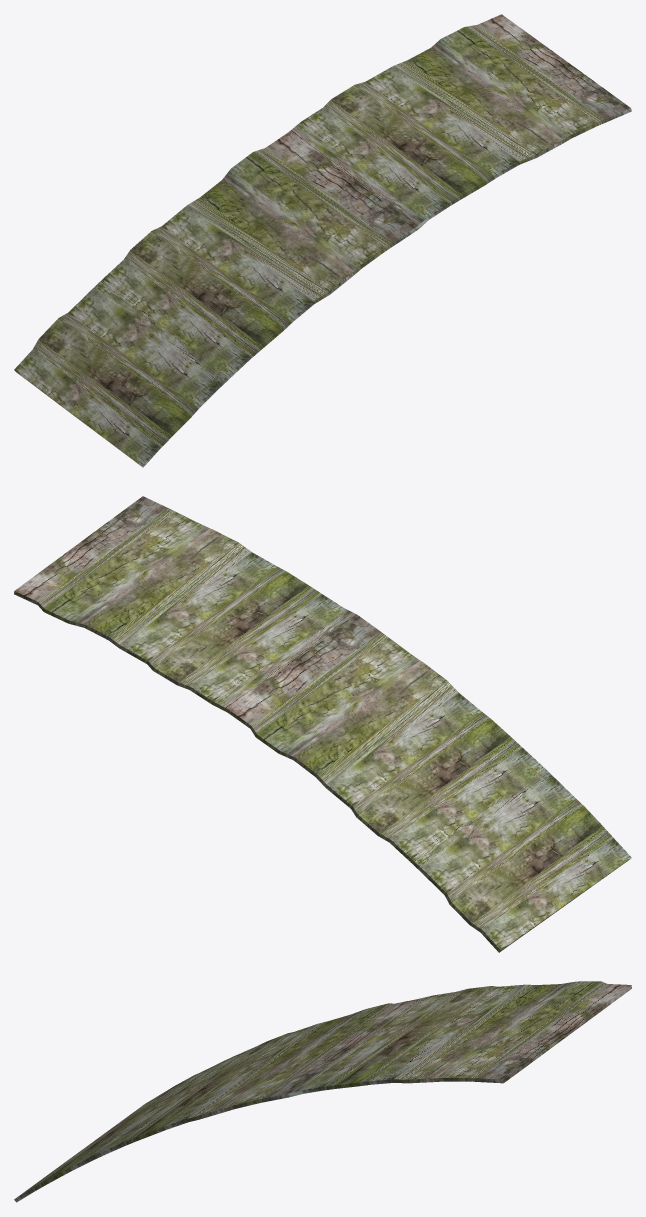
Rendered from ramp-004.fbx.
3 renders of one model, top to bottom at view 1: azimuth 30°, elevation 25°; view 2: azimuth 150°, elevation 25°; view 3: azimuth 330°, elevation 25°, orthographic.
Parts seen in each view (by area): view 1: Ramp_004; view 2: Ramp_004; view 3: Ramp_004.
Part boxes in pixels (box(x1,y1,x2,y2)): Ramp_004: box(14, 14, 631, 467); Ramp_004: box(14, 496, 631, 952); Ramp_004: box(14, 981, 631, 1202).
Bounding box in the file's own units: 438 × 207 × 206.
